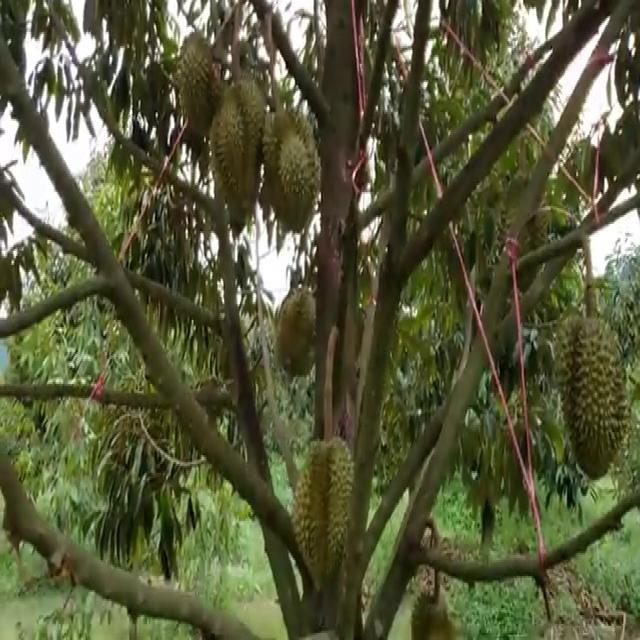durian: (548, 304, 630, 487), (206, 72, 272, 248), (290, 431, 358, 593), (262, 98, 326, 242), (172, 27, 229, 146), (273, 279, 325, 381)
